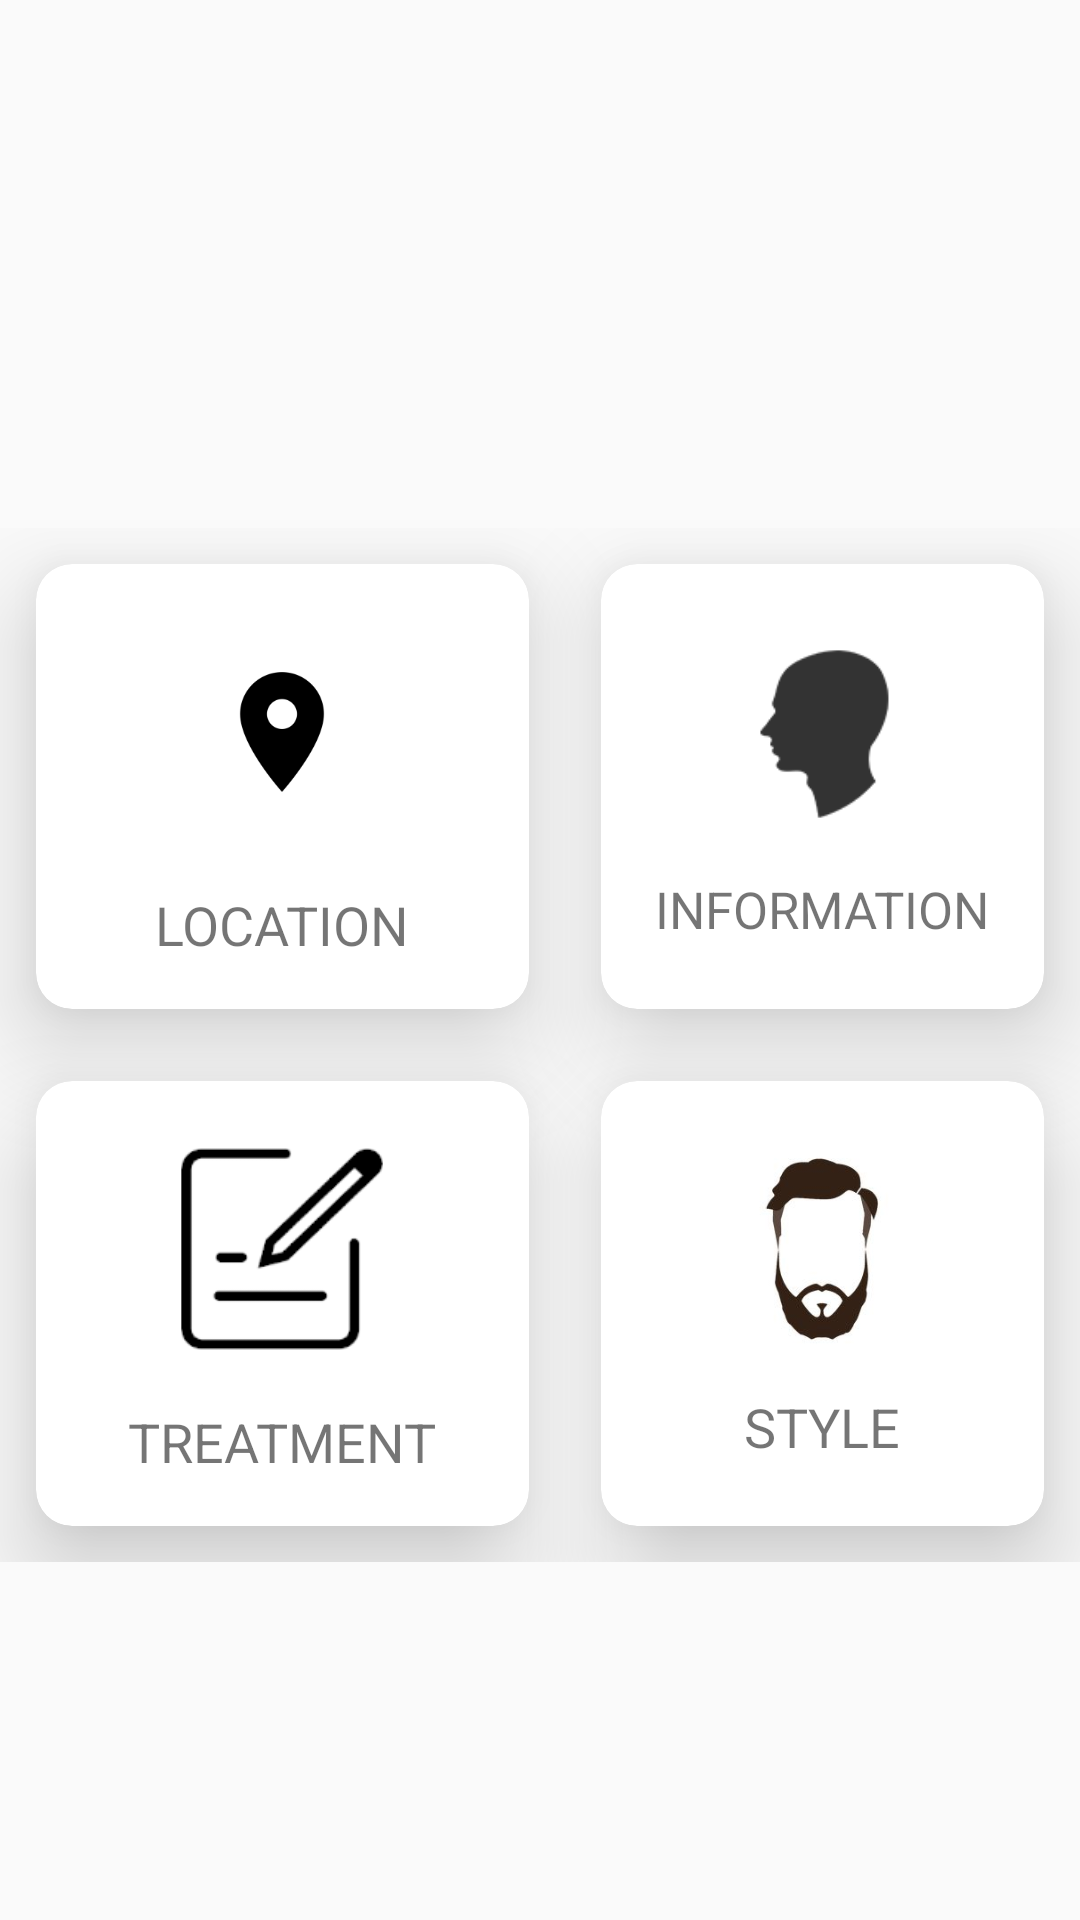

Point at icon controls on the screen. Image size 1080*1920, points as (x=x, y=y).
head: (x=824, y=734)
plan: (x=282, y=1249)
